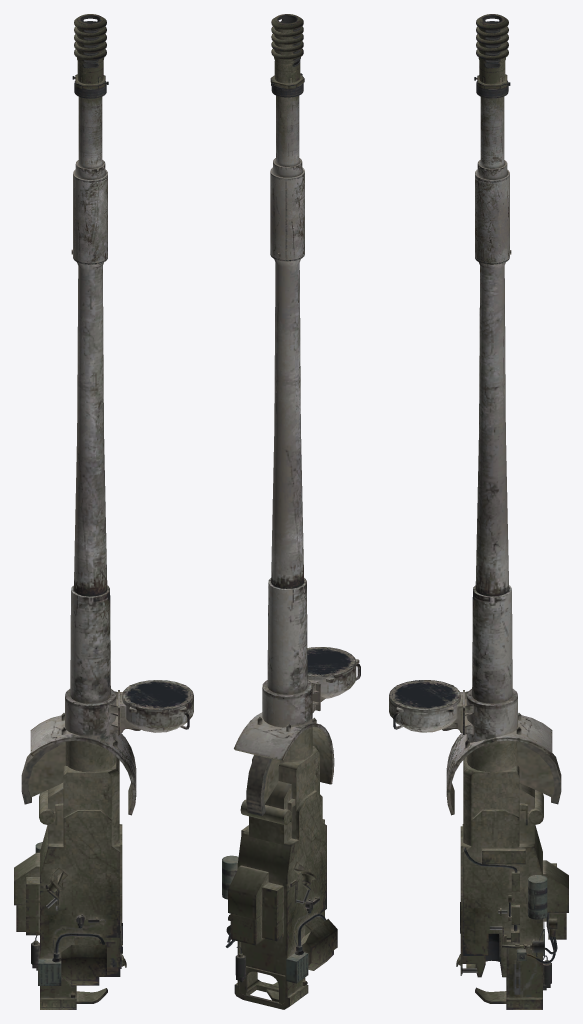
File: Gun_01.glb
3 renders of one model, left to right at view 1: azimuth 90°, elevation 25°; view 2: azimuth 150°, elevation 25°; view 3: azimuth 270°, elevation 25°, orthographic.
Visible parts, largest first — view 1: set_0_group_0; view 2: set_0_group_0; view 3: set_0_group_0.
Part boxes in pixels (x1,y1,x2,y2): set_0_group_0: [14, 14, 193, 1009]; set_0_group_0: [222, 14, 360, 1009]; set_0_group_0: [389, 14, 568, 1009].
Bounding box in the file's own units: 0.7525 × 7.96 × 1.32.
Materials: 1 (1 with a texture image).
